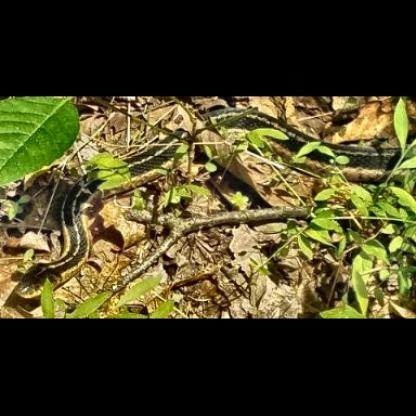Snake: (90, 106, 416, 206), (10, 214, 90, 304)
